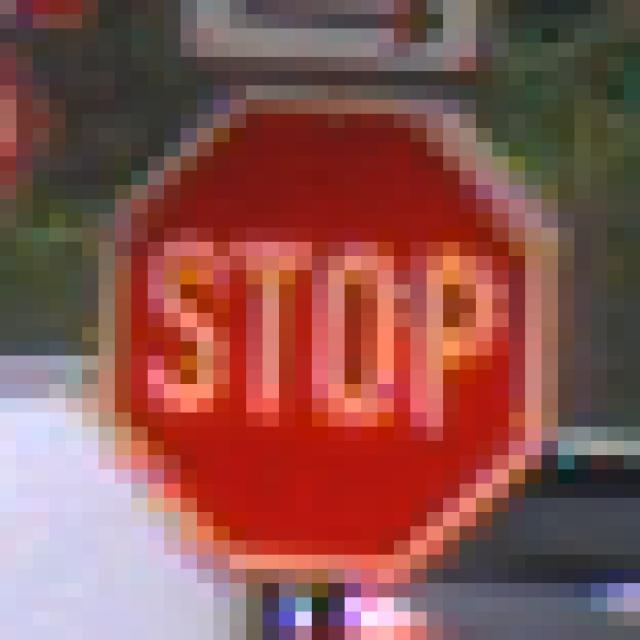STOP: (83, 72, 543, 570)
